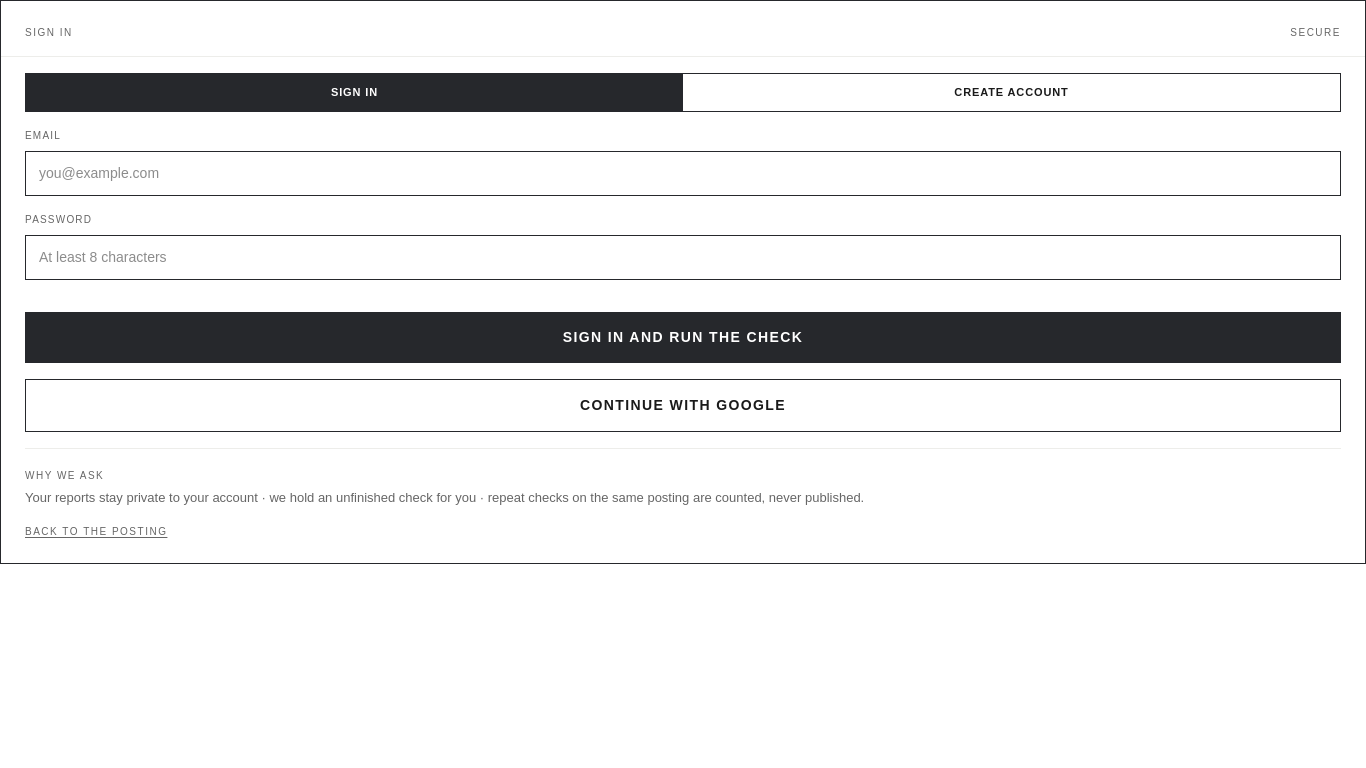
AuthForm captcha › blocks submit until the captcha is solved
Type "a@b.com" into the field labelled "Email". click: coordinates (683, 173)
box: [25,150,1341,196]
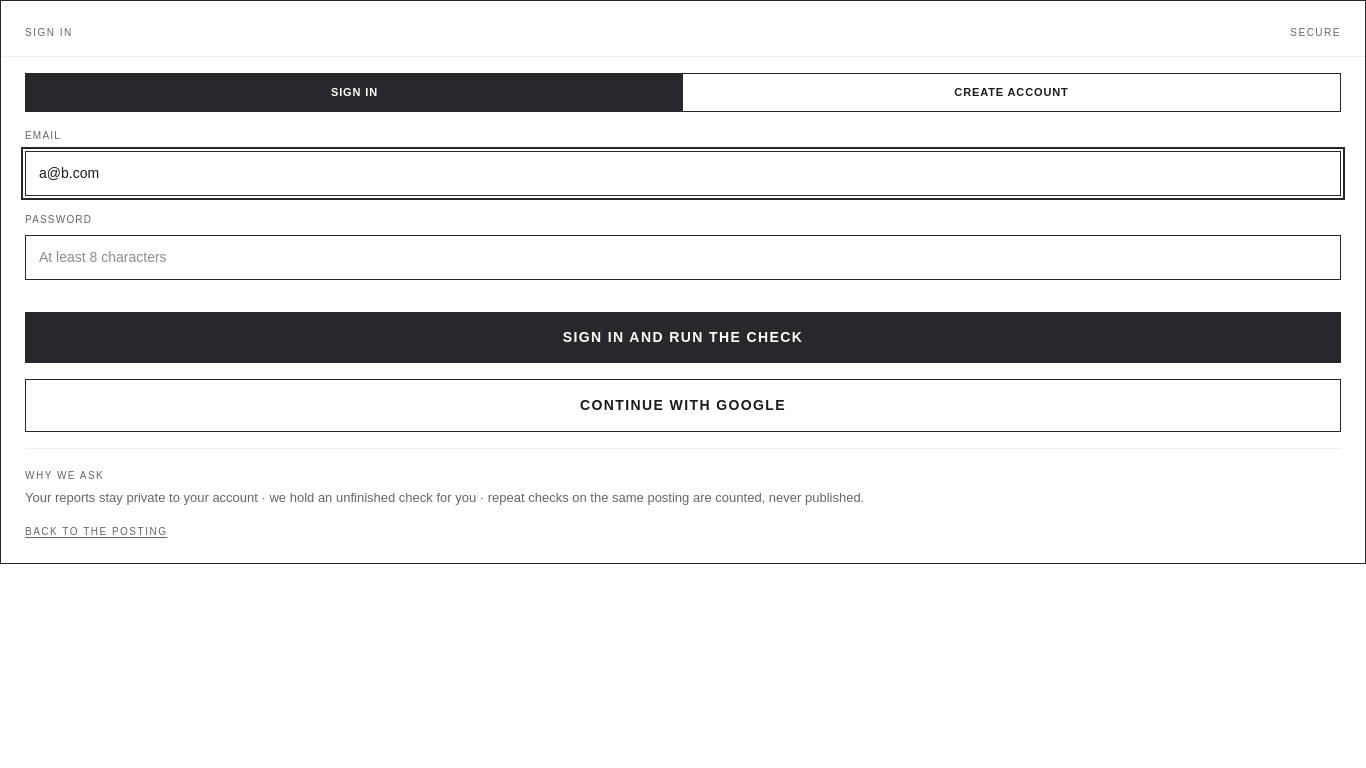
Type "12345678" into the password field labelled "Password". click: coordinates (683, 257)
box: [25,234,1341,280]
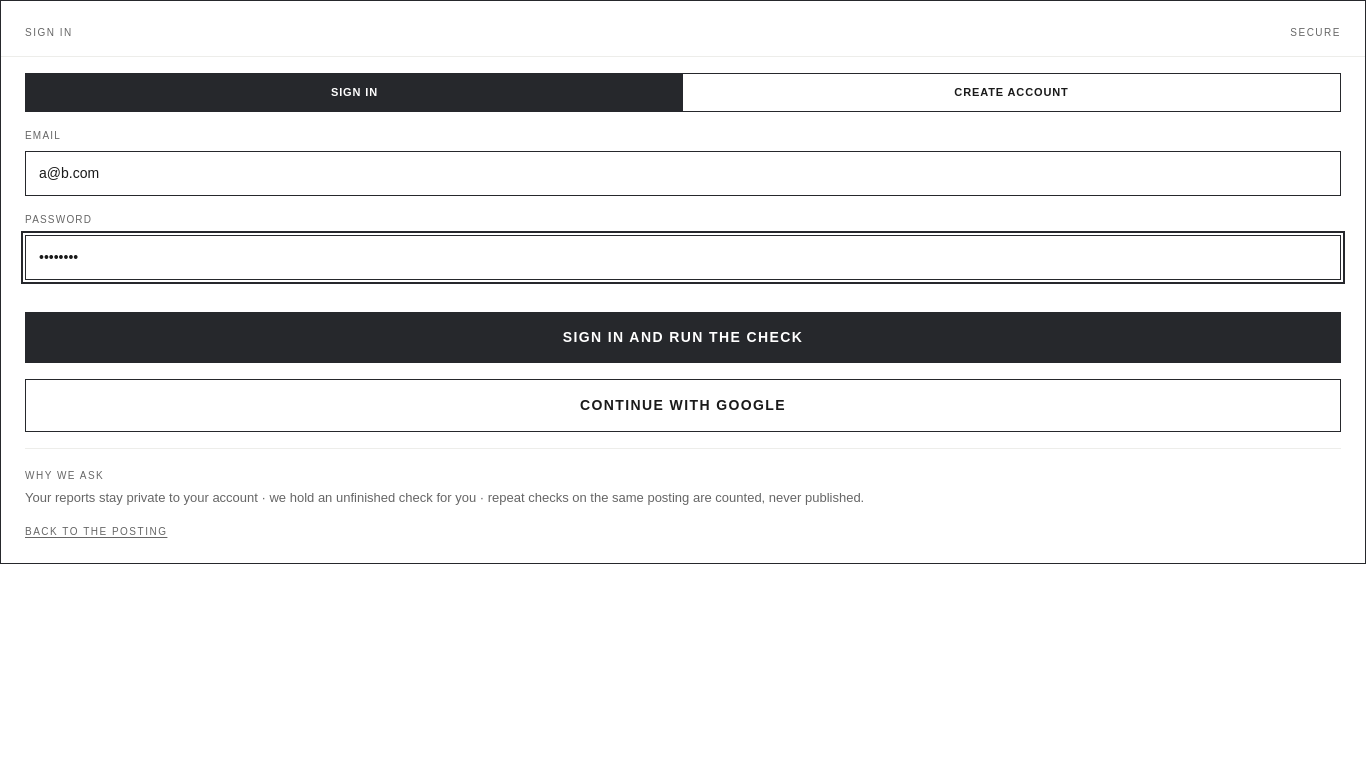
Do NOT solve the captcha.
Click the button "SIGN IN AND RUN THE CHECK". click: coordinates (683, 337)
box: [25,312,1341,362]
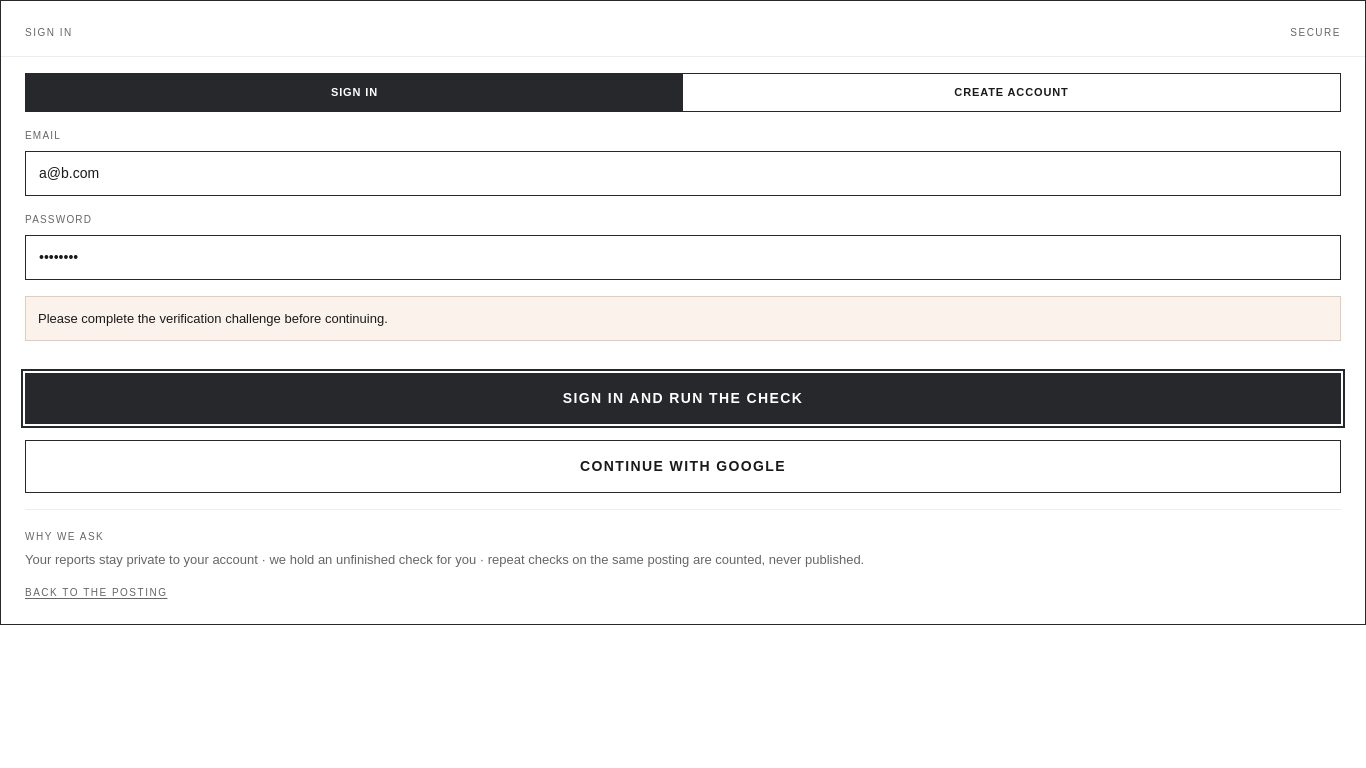
Expected: the text "verification" is shown, [38,310,388,326]
